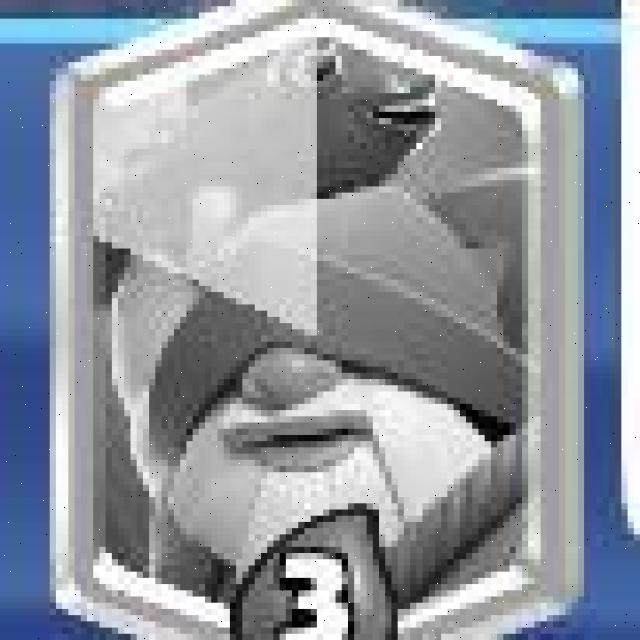Fisherman: (51, 0, 584, 640)
